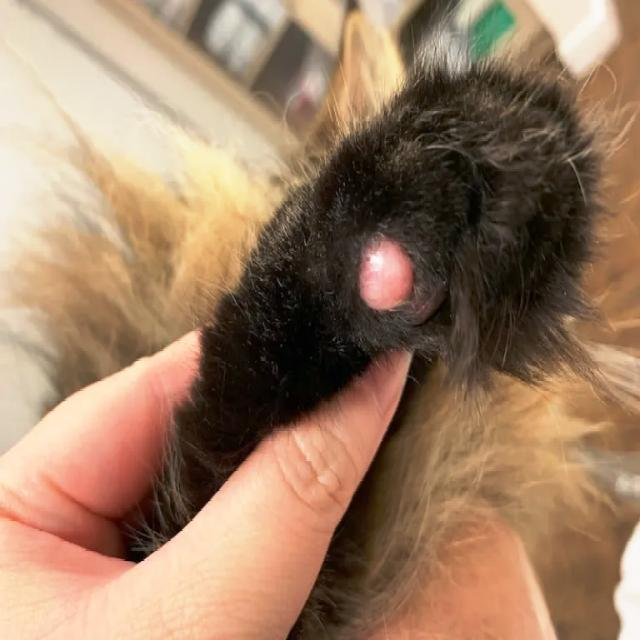lump_and_bump: (360, 236, 413, 310)
